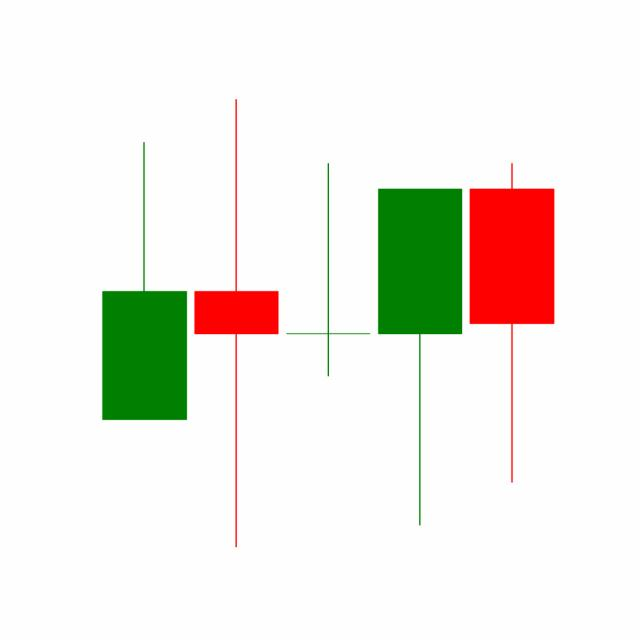Hammer: (373, 185, 467, 529)
